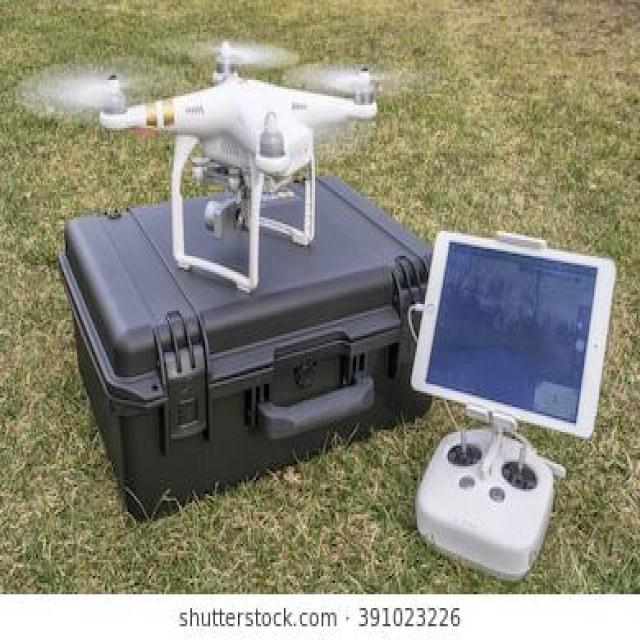drone: (0, 32, 434, 296)
